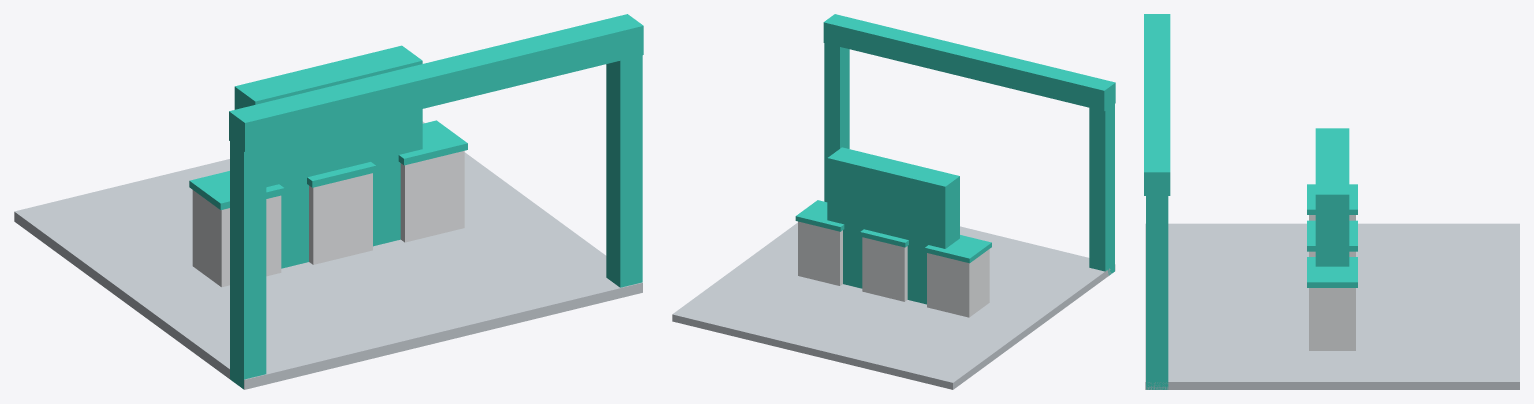
3 views of the same model, side by side, from view 1: azimuth 30°, elevation 25°; view 2: azimuth 150°, elevation 25°; view 3: azimuth 270°, elevation 25° (orthographic). The views are drawn at different scales.
Visible parts, largest first — view 1: Exhibition Booth Concept; view 2: Exhibition Booth Concept; view 3: Exhibition Booth Concept.
Boxes of the visible parts, x1=… form: Exhibition Booth Concept: x1=14, y1=14, x2=643, y2=389; Exhibition Booth Concept: x1=672, y1=14, x2=1115, y2=389; Exhibition Booth Concept: x1=1144, y1=14, x2=1519, y2=389.
Bounding box in the file's own units: 5 × 3.2 × 5.02.
